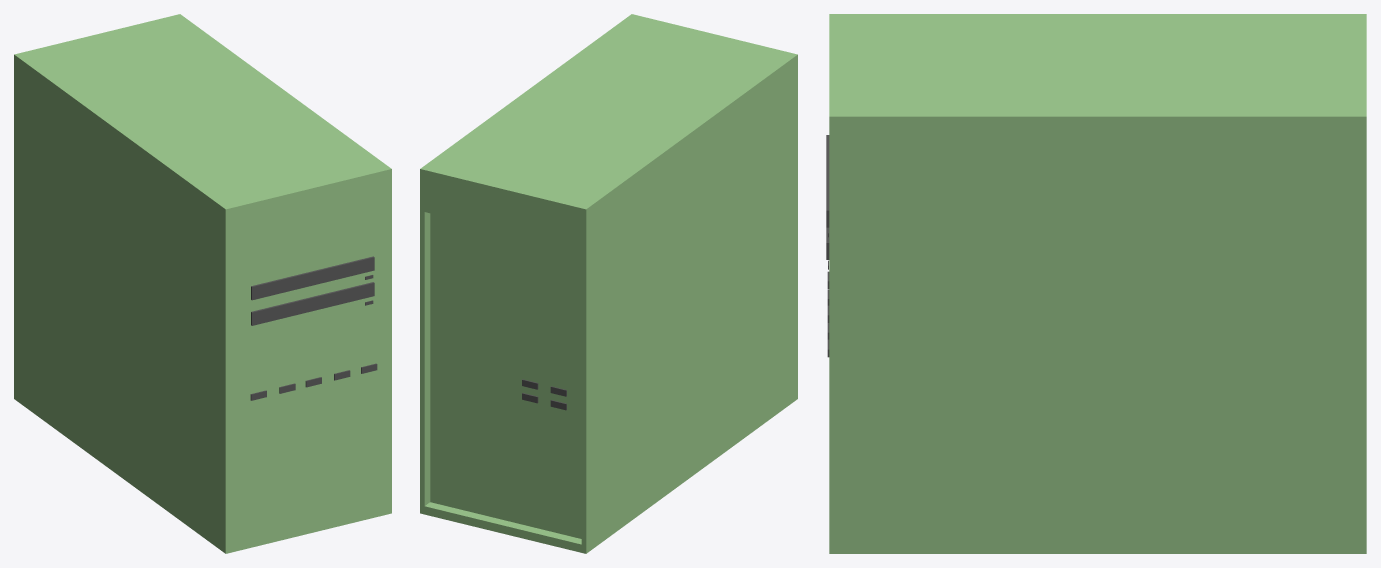
3 renders of one model, left to right at view 1: azimuth 30°, elevation 25°; view 2: azimuth 150°, elevation 25°; view 3: azimuth 270°, elevation 25°, orthographic. The views are drawn at different scales.
Parts seen in each view (by area): view 1: PC; view 2: PC; view 3: PC.
Boxes of the visible parts, x1,y1,x2,y2 form: PC: (14,14,391,553); PC: (420,14,797,553); PC: (826,14,1366,553).
Bounding box in the file's own units: 86.12 × 171 × 191.
